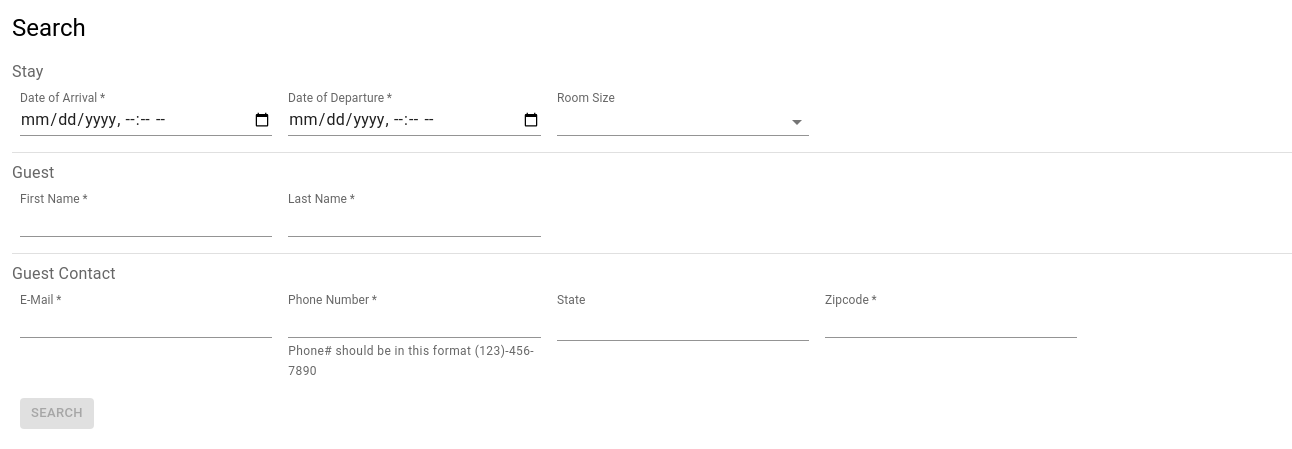
it: Reservation page › should validate zipcode
In the field with test id "zipcode": (951, 324) [825,309,1077,338], type "test"
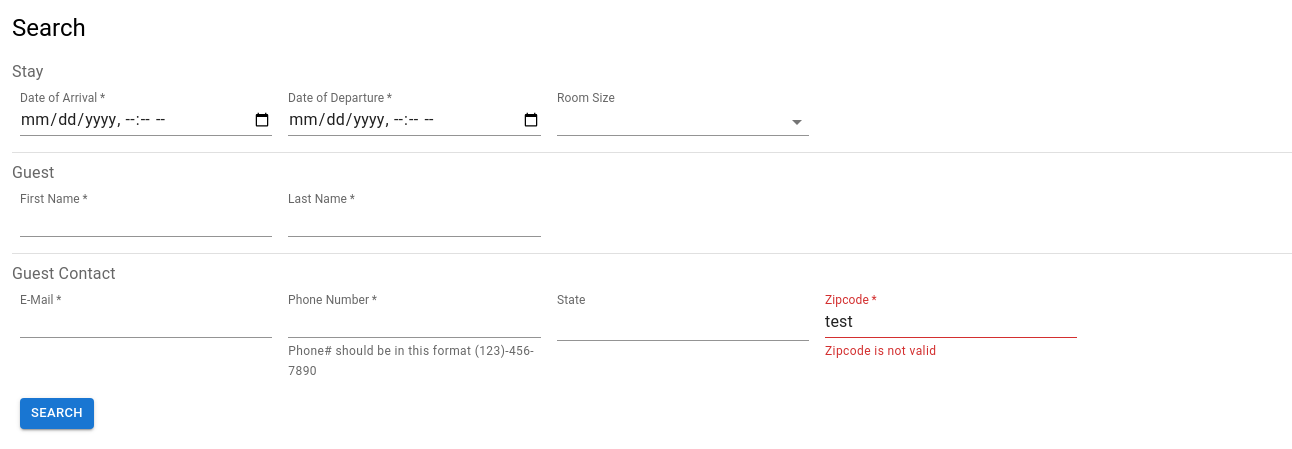
Result: the text "Zipcode is not valid" is shown at [825,344,936,358]
